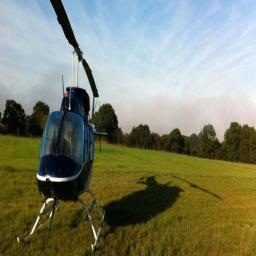helicopter: (15, 1, 110, 253)
